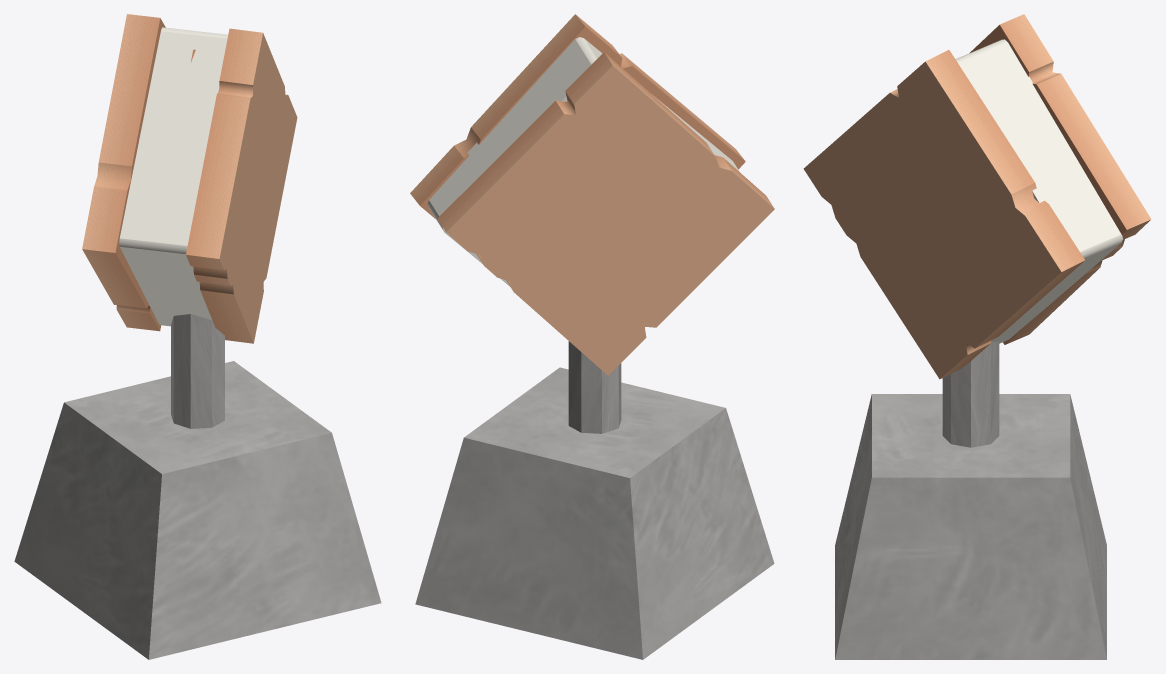
The model's file is kremowka-trophy.glb.
The picture shows the model from 3 angles, left to right: view 1: azimuth 30°, elevation 25°; view 2: azimuth 150°, elevation 25°; view 3: azimuth 270°, elevation 25°; orthographic projection. The views are drawn at different scales.
Visible parts, largest first — view 1: Cube, cutting-board-japanese, waffle, cutting-board-japanese.002, Circle; view 2: Cube, cutting-board-japanese.002, cutting-board-japanese, waffle, Circle; view 3: Cube, cutting-board-japanese, waffle, cutting-board-japanese.002, Circle.
Part boxes in pixels (x1=…): Cube: x1=14, y1=361, x2=381, y2=659; cutting-board-japanese: x1=186, y1=28, x2=297, y2=343; waffle: x1=119, y1=27, x2=228, y2=326; cutting-board-japanese.002: x1=82, y1=14, x2=165, y2=331; Circle: x1=171, y1=314, x2=224, y2=428; Cube: x1=415, y1=367, x2=774, y2=659; cutting-board-japanese.002: x1=437, y1=52, x2=774, y2=375; cutting-board-japanese: x1=410, y1=14, x2=745, y2=218; waffle: x1=427, y1=37, x2=739, y2=286; Circle: x1=568, y1=341, x2=621, y2=433; Cube: x1=835, y1=394, x2=1106, y2=659; cutting-board-japanese: x1=803, y1=50, x2=1085, y2=379; waffle: x1=955, y1=39, x2=1122, y2=343; cutting-board-japanese.002: x1=970, y1=14, x2=1151, y2=344; Circle: x1=942, y1=341, x2=999, y2=447.
Bounding box in the file's own units: 0.3934 × 0.7156 × 0.3985.
Materials: 4 (3 with a texture image).
